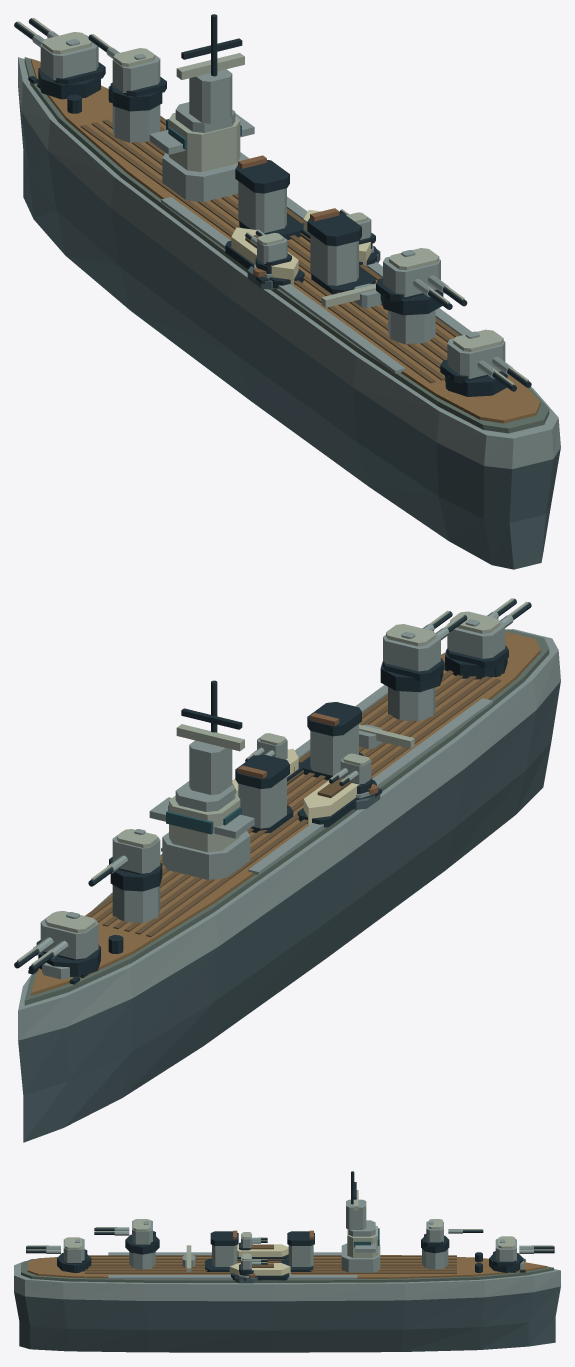
The model's file is historic-de-ruyter.glb.
The picture shows the model from 3 angles, top to bottom: view 1: azimuth 30°, elevation 25°; view 2: azimuth 150°, elevation 25°; view 3: azimuth 270°, elevation 25°; orthographic projection. The views are drawn at different scales.
Visible parts, largest first — view 1: historic-de-ruyter-historic-de-ruyter-geometry, historic-de-ruyter-part_bridge.051-geometry, historic-de-ruyter-turret_main_0.041-geometry, historic-de-ruyter-turret_main_3.019-geometry, historic-de-ruyter-turret_main_2.035-geometry, historic-de-ruyter-historic_funnel_1.027-geometry, historic-de-ruyter-historic_funnel_0.052-geometry, historic-de-ruyter-turret_main_1.040-geometry, historic-de-ruyter-turret_aa_aa-port.053-geometry, historic-de-ruyter-historic_catapult_0.013-geometry; view 2: historic-de-ruyter-historic-de-ruyter-geometry, historic-de-ruyter-part_bridge.051-geometry, historic-de-ruyter-turret_main_2.035-geometry, historic-de-ruyter-turret_main_3.019-geometry, historic-de-ruyter-turret_main_0.041-geometry, historic-de-ruyter-historic_funnel_0.052-geometry, historic-de-ruyter-historic_funnel_1.027-geometry, historic-de-ruyter-turret_main_1.040-geometry, historic-de-ruyter-turret_aa_aa-port.053-geometry, historic-de-ruyter-historic_catapult_0.013-geometry, historic-de-ruyter-turret_aa_aa-starboard.051-geometry; view 3: historic-de-ruyter-historic-de-ruyter-geometry, historic-de-ruyter-part_bridge.051-geometry, historic-de-ruyter-turret_main_0.041-geometry, historic-de-ruyter-turret_main_3.019-geometry, historic-de-ruyter-turret_main_2.035-geometry, historic-de-ruyter-historic_funnel_1.027-geometry, historic-de-ruyter-historic_funnel_0.052-geometry, historic-de-ruyter-turret_main_1.040-geometry, historic-de-ruyter-turret_aa_aa-starboard.051-geometry, historic-de-ruyter-turret_aa_aa-port.053-geometry, historic-de-ruyter-historic_catapult_0.013-geometry.
Boxes of the visible parts, <box> form: historic-de-ruyter-historic-de-ruyter-geometry: <box>18,57,560,569</box>; historic-de-ruyter-part_bridge.051-geometry: <box>149,14,254,201</box>; historic-de-ruyter-turret_main_0.041-geometry: <box>14,18,105,99</box>; historic-de-ruyter-turret_main_3.019-geometry: <box>440,329,531,396</box>; historic-de-ruyter-turret_main_2.035-geometry: <box>376,248,467,315</box>; historic-de-ruyter-historic_funnel_1.027-geometry: <box>307,208,375,294</box>; historic-de-ruyter-historic_funnel_0.052-geometry: <box>235,155,302,239</box>; historic-de-ruyter-turret_main_1.040-geometry: <box>88,34,166,111</box>; historic-de-ruyter-turret_aa_aa-port.053-geometry: <box>245,229,291,273</box>; historic-de-ruyter-historic_catapult_0.013-geometry: <box>321,283,381,308</box>; historic-de-ruyter-historic-de-ruyter-geometry: <box>18,629,560,1142</box>; historic-de-ruyter-part_bridge.051-geometry: <box>149,680,254,879</box>; historic-de-ruyter-turret_main_2.035-geometry: <box>380,610,467,692</box>; historic-de-ruyter-turret_main_3.019-geometry: <box>445,598,531,679</box>; historic-de-ruyter-turret_main_0.041-geometry: <box>14,911,100,976</box>; historic-de-ruyter-historic_funnel_0.052-geometry: <box>235,754,293,833</box>; historic-de-ruyter-historic_funnel_1.027-geometry: <box>301,702,363,780</box>; historic-de-ruyter-turret_main_1.040-geometry: <box>88,829,162,891</box>; historic-de-ruyter-turret_aa_aa-port.053-geometry: <box>329,753,372,793</box>; historic-de-ruyter-historic_catapult_0.013-geometry: <box>359,724,414,749</box>; historic-de-ruyter-turret_aa_aa-starboard.051-geometry: <box>245,733,287,761</box>; historic-de-ruyter-historic-de-ruyter-geometry: <box>14,1244,560,1352</box>; historic-de-ruyter-part_bridge.051-geometry: <box>341,1171,380,1272</box>; historic-de-ruyter-turret_main_0.041-geometry: <box>489,1236,554,1272</box>; historic-de-ruyter-turret_main_3.019-geometry: <box>26,1237,91,1272</box>; historic-de-ruyter-turret_main_2.035-geometry: <box>94,1219,159,1254</box>; historic-de-ruyter-historic_funnel_1.027-geometry: <box>205,1230,238,1271</box>; historic-de-ruyter-historic_funnel_0.052-geometry: <box>281,1230,314,1271</box>; historic-de-ruyter-turret_main_1.040-geometry: <box>421,1219,483,1253</box>; historic-de-ruyter-turret_aa_aa-starboard.051-geometry: <box>239,1253,267,1275</box>; historic-de-ruyter-turret_aa_aa-port.053-geometry: <box>239,1232,267,1250</box>; historic-de-ruyter-historic_catapult_0.013-geometry: <box>182,1245,195,1272</box>.
Size of the model in its own units: 0.5872 by 1.49 by 4.32.
